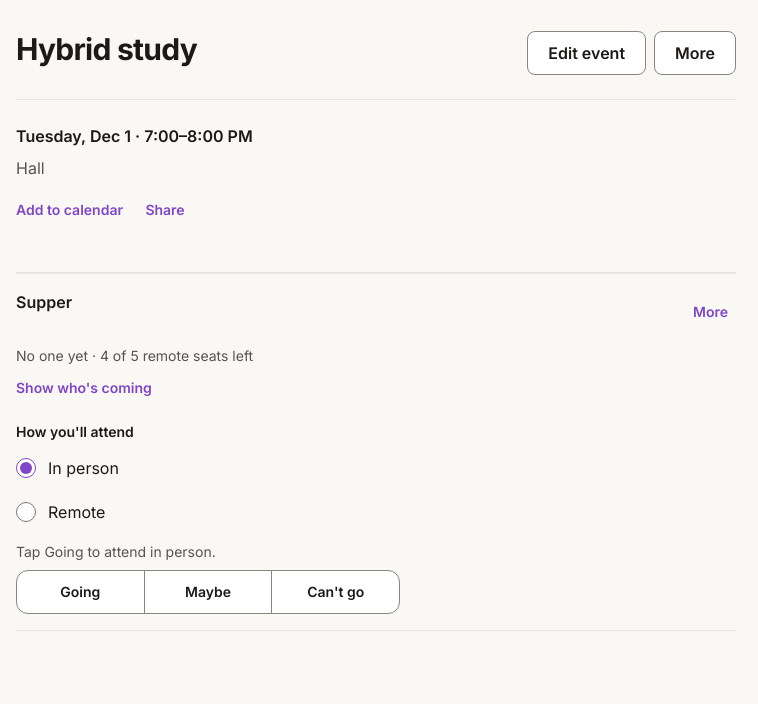
it: EventDetail remote seats › marks remote people in the leader roster
The image size is (758, 704).
Click the button with aria-label "More for 2026-12-01": [710, 312] box x1=685 y1=290 x2=736 y2=334
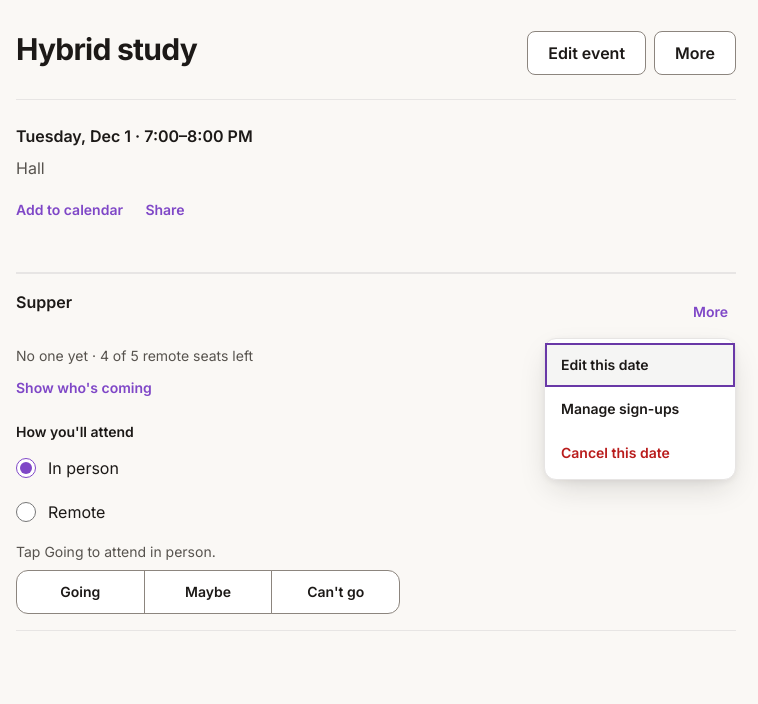
Click the menu item "Manage sign-ups": [640, 409] box x1=545 y1=387 x2=735 y2=431
(page scrolled)
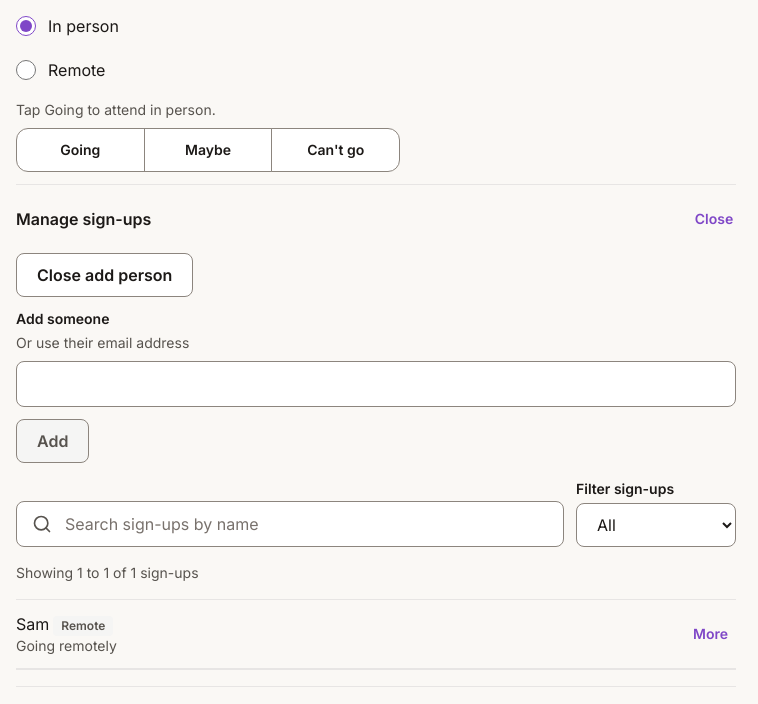
expect the text "Sam" is shown: met, box x1=16 y1=614 x2=49 y2=634
